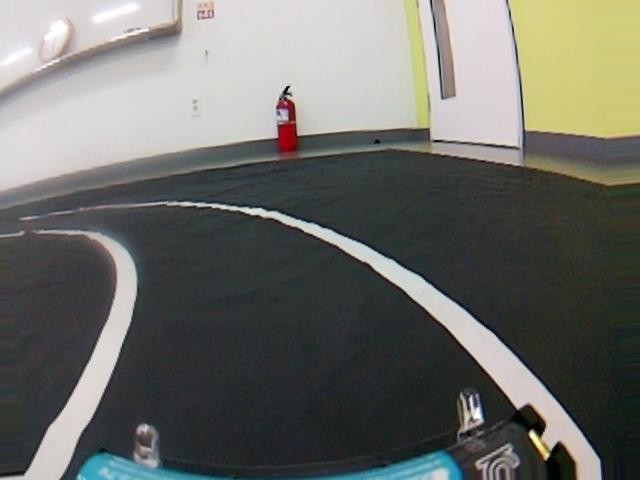left: (4, 205, 640, 480)
